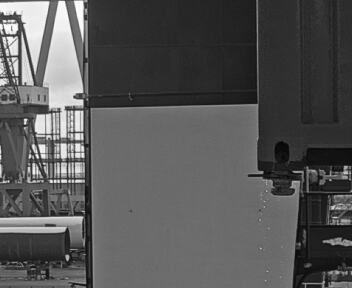twist_lock_1: (152, 184, 243, 241)
